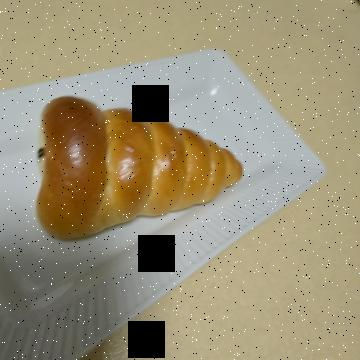cream horn: (72, 106, 259, 343)
